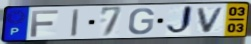7: (99, 5, 123, 39)
F: (29, 9, 61, 38)
G: (127, 7, 156, 36)
I: (69, 8, 81, 38)
J: (165, 5, 194, 37)
V: (196, 6, 228, 34)
